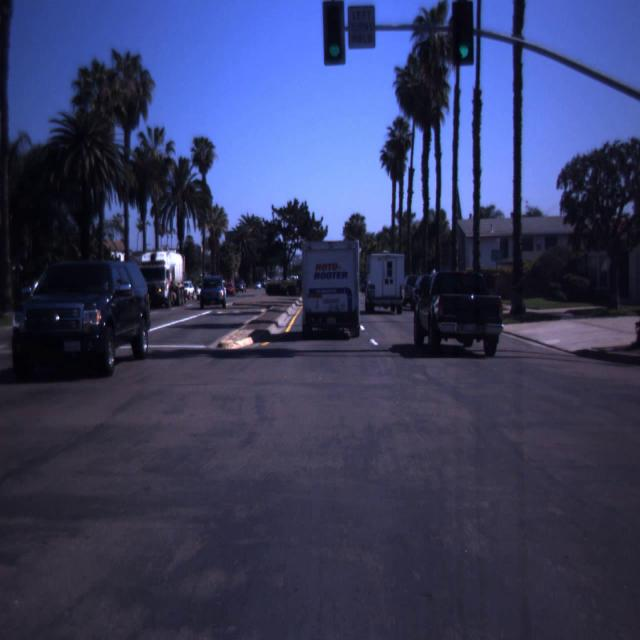yesil: (323, 1, 345, 65), (452, 0, 472, 65)
